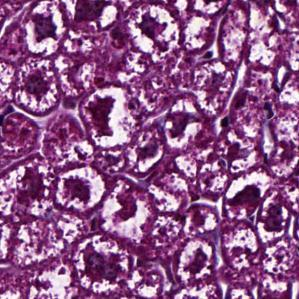inflammation: (78, 83, 135, 154), (50, 165, 105, 212)
